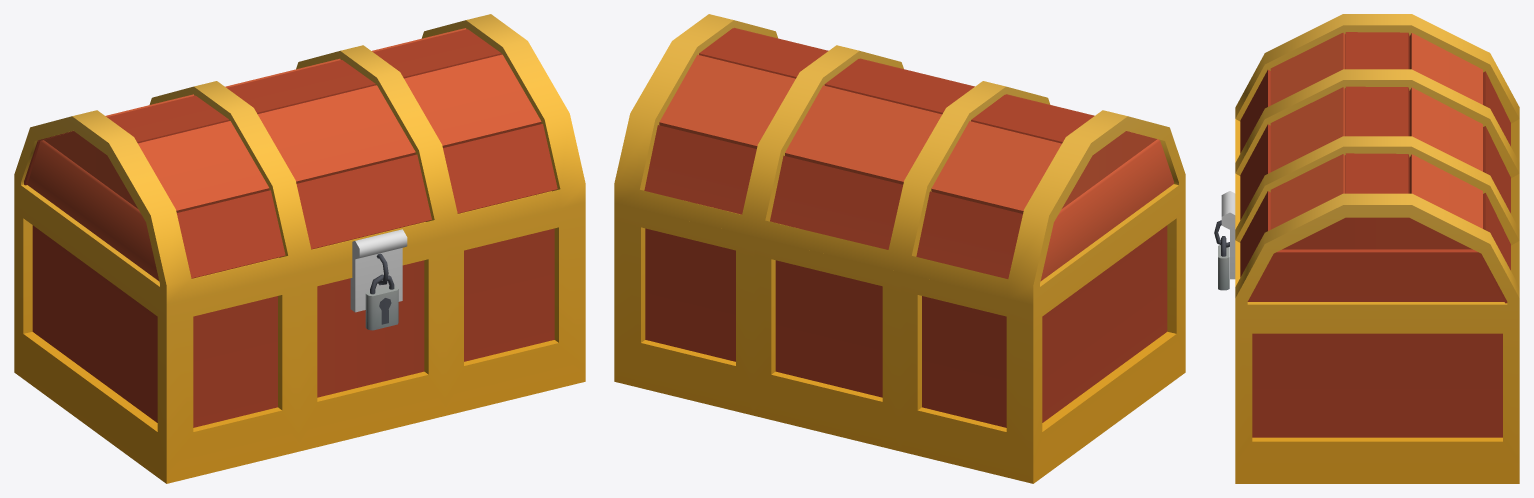
The model's file is Chest.fbx.
The picture shows the model from 3 angles, left to right: view 1: azimuth 30°, elevation 25°; view 2: azimuth 150°, elevation 25°; view 3: azimuth 270°, elevation 25°; orthographic projection. The views are drawn at different scales.
Parts seen in each view (by area): view 1: Chest; view 2: Chest; view 3: Chest.
Part boxes in pixels (x1,y1,x2,y2): Chest: [14, 14, 585, 483]; Chest: [614, 14, 1185, 483]; Chest: [1214, 14, 1519, 483].
Bounding box in the file's own units: 0.8521 × 0.5802 × 0.5757.
